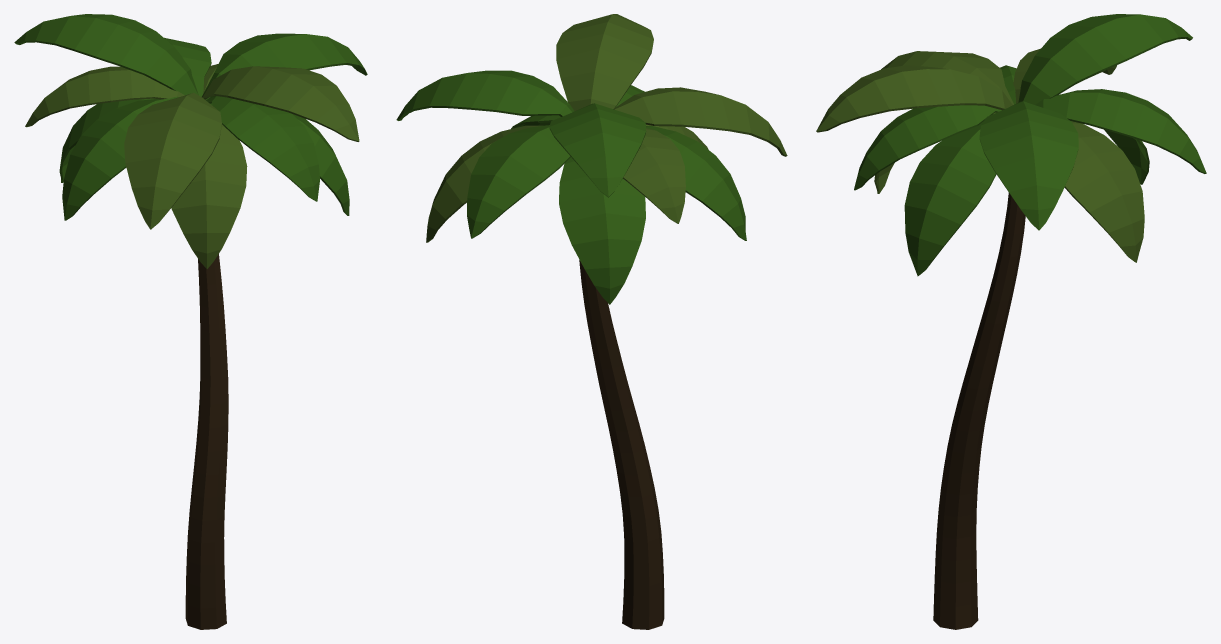
File: Palm_Tree.obj
3 views of the same model, side by side, from view 1: azimuth 30°, elevation 25°; view 2: azimuth 150°, elevation 25°; view 3: azimuth 270°, elevation 25° (orthographic). The views are drawn at different scales.
Visible parts, largest first — view 1: Palm-tree_Cylinder; view 2: Palm-tree_Cylinder; view 3: Palm-tree_Cylinder.
Part boxes in pixels (box(x1,y1,x2,y2)): Palm-tree_Cylinder: box(14, 14, 367, 629); Palm-tree_Cylinder: box(396, 14, 787, 629); Palm-tree_Cylinder: box(816, 14, 1206, 629).
Size of the model in its own units: 3.28 by 5.4 by 3.27.
